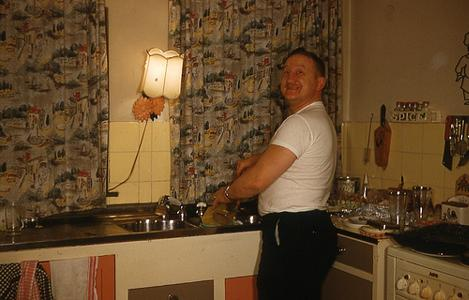person: (214, 48, 341, 300)
